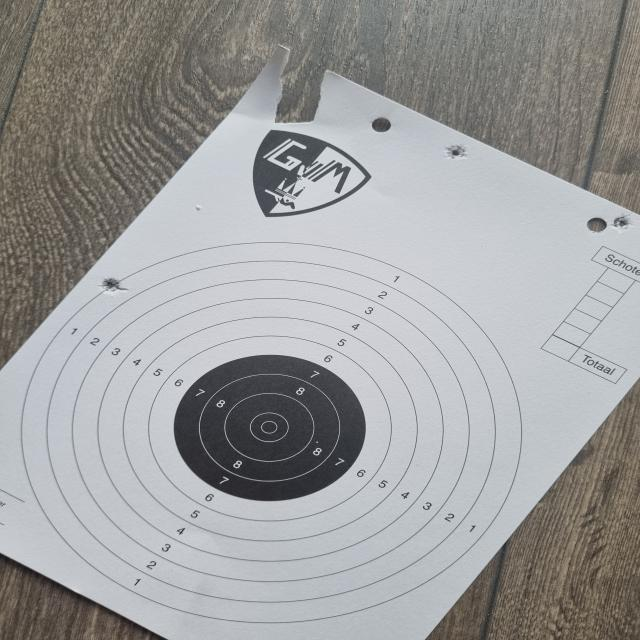0: (441, 142, 469, 162), (608, 212, 634, 232)
1: (100, 276, 126, 293)
Target: (21, 241, 524, 623)
black_contour: (175, 355, 366, 501)
